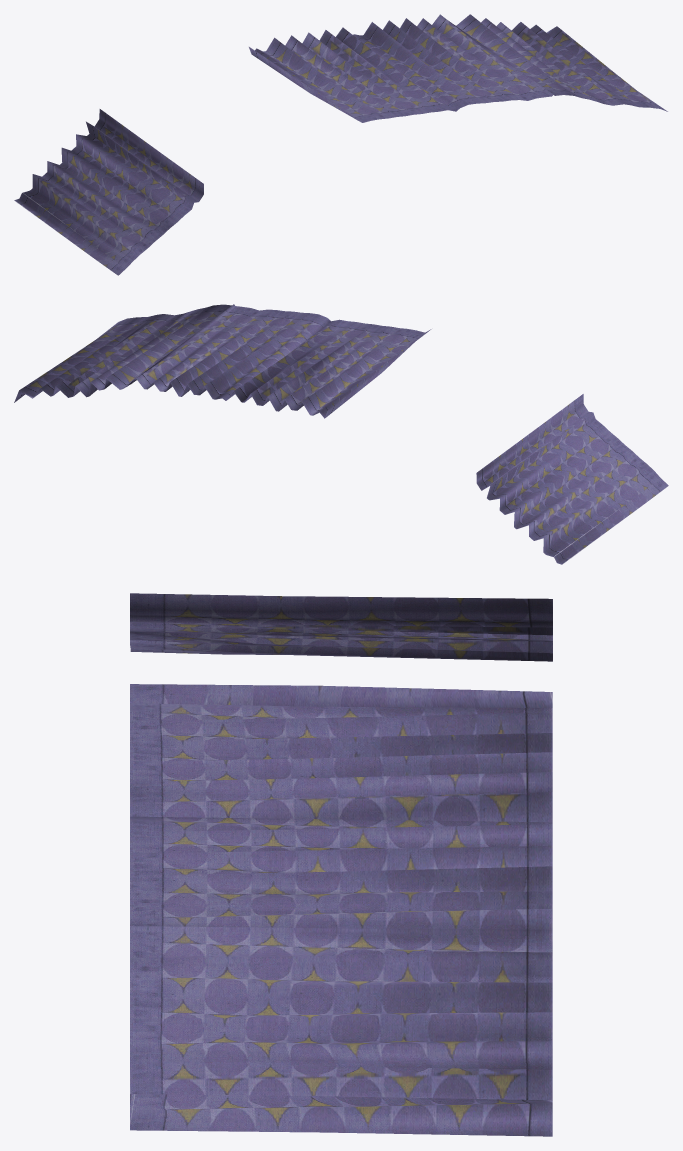
File: nt_2020_house_02_curtains_01_LOD0.obj
3 renders of one model, top to bottom at view 1: azimuth 30°, elevation 25°; view 2: azimuth 150°, elevation 25°; view 3: azimuth 270°, elevation 25°, orthographic. The views are drawn at different scales.
Parts seen in each view (by area): view 1: mtl_nt_2020_curtains_01; view 2: mtl_nt_2020_curtains_01; view 3: mtl_nt_2020_curtains_01.
Boxes of the visible parts, box(x1,y1,x2,y2) form: mtl_nt_2020_curtains_01: box(14, 14, 667, 275); mtl_nt_2020_curtains_01: box(14, 304, 668, 564); mtl_nt_2020_curtains_01: box(130, 593, 552, 1136).
Bounding box in the file's own units: 948 × 167 × 315.
